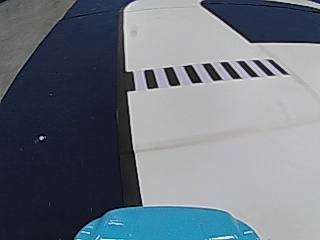CrossWalk: (129, 57, 286, 88)
